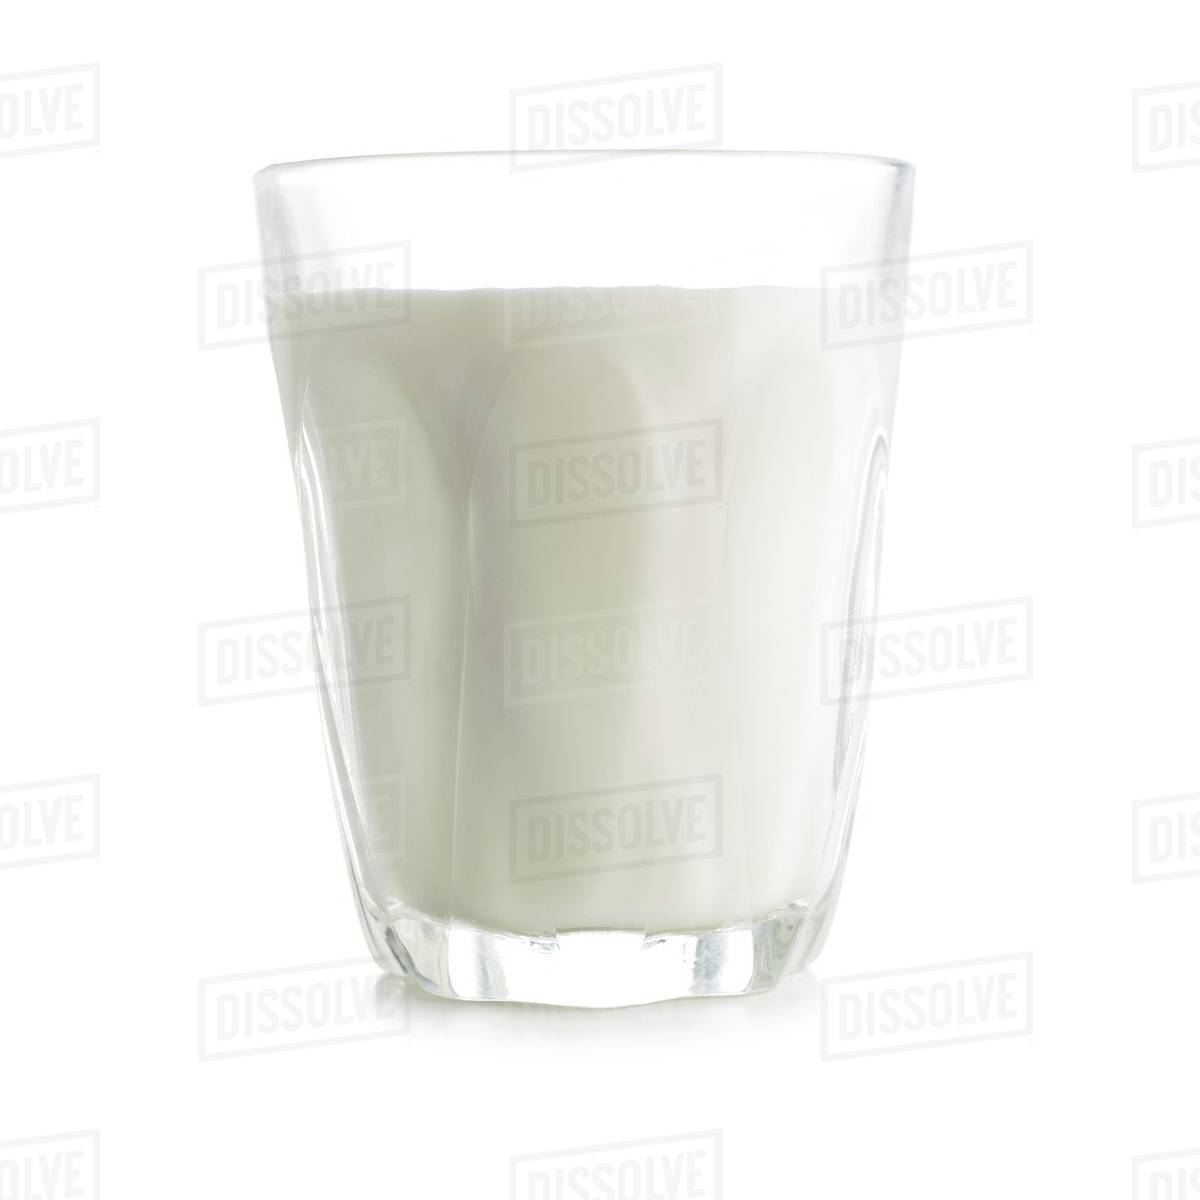glass of milk: (273, 166, 869, 1000)
